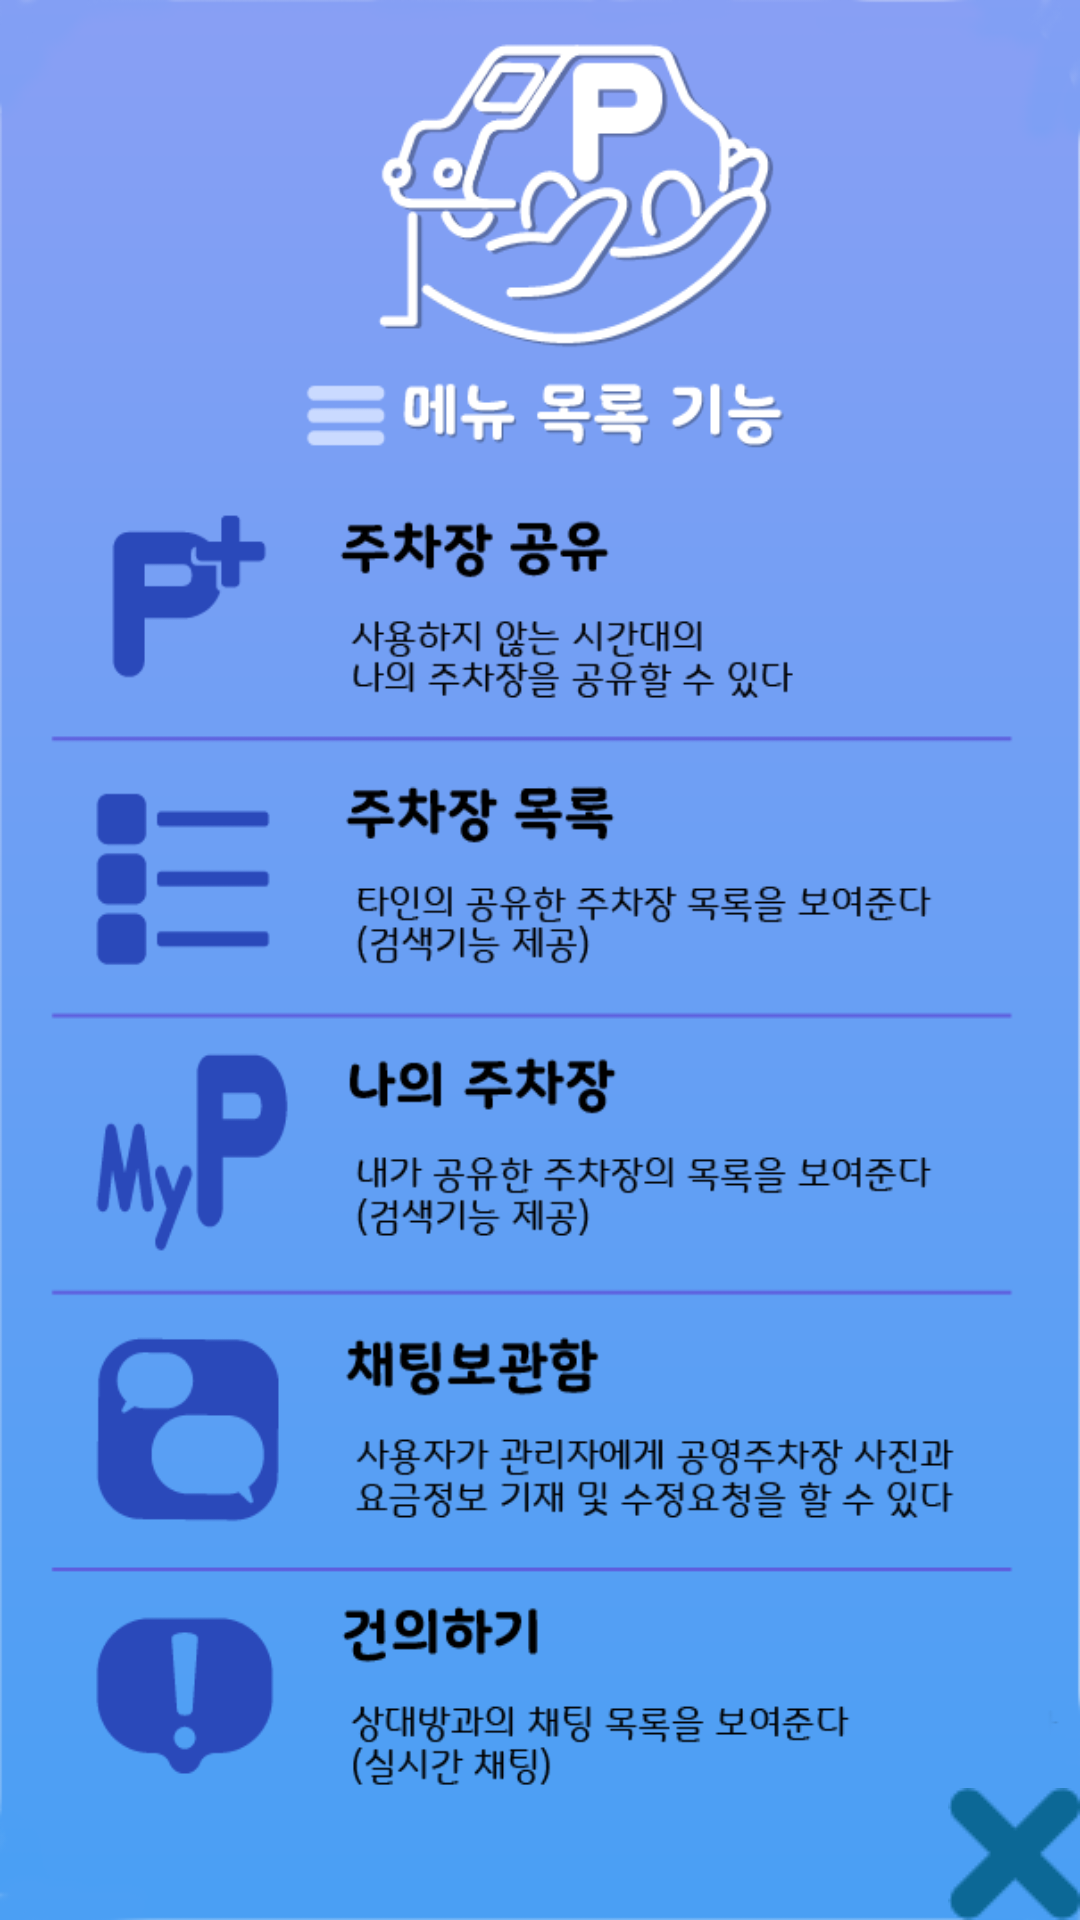

Icons on this 1080px x 1920px Android screen, each with the point to tap as (x,y):
xicon: (1015,1854)
